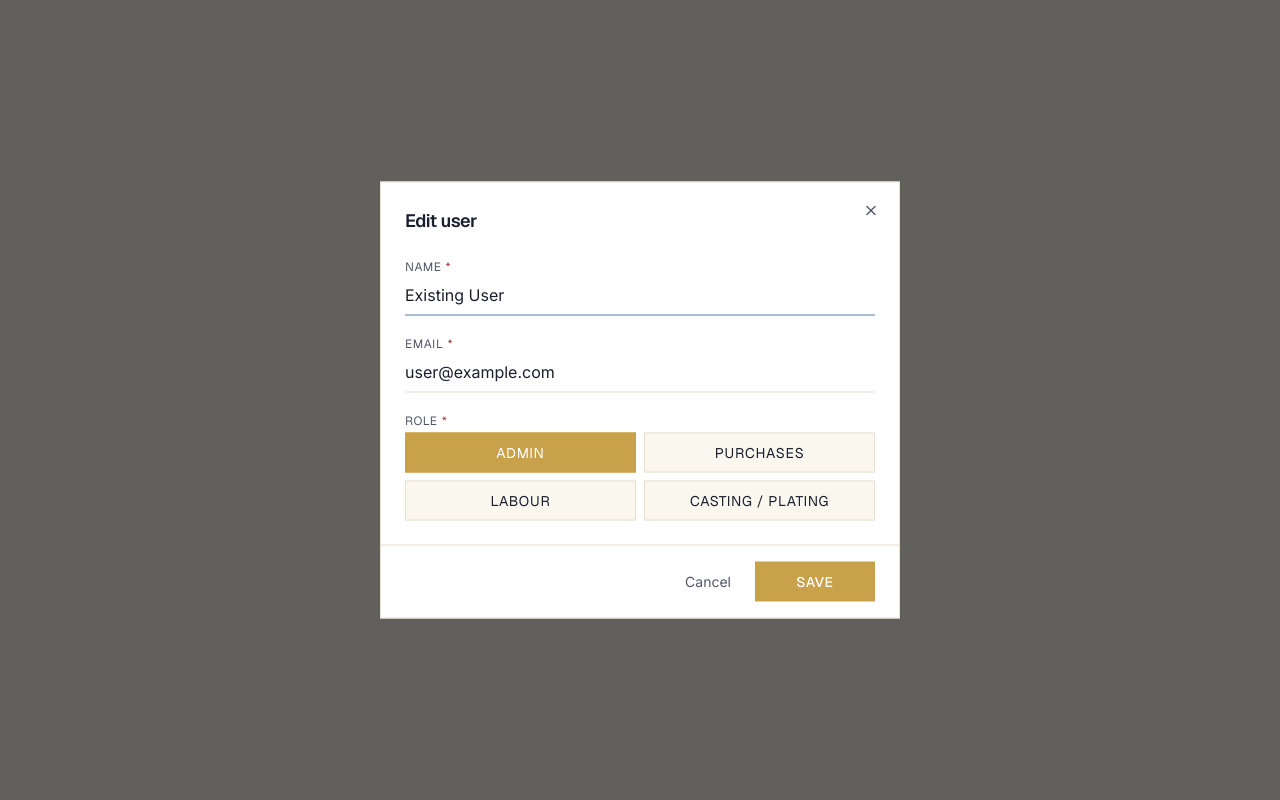
UserFormModal — edit mode › surfaces server-side G2/G3 rejection in the form's role field
Click the radio button with test id "role-option-PURCHASE_DEPT": (760, 452) [644,432,875,472]
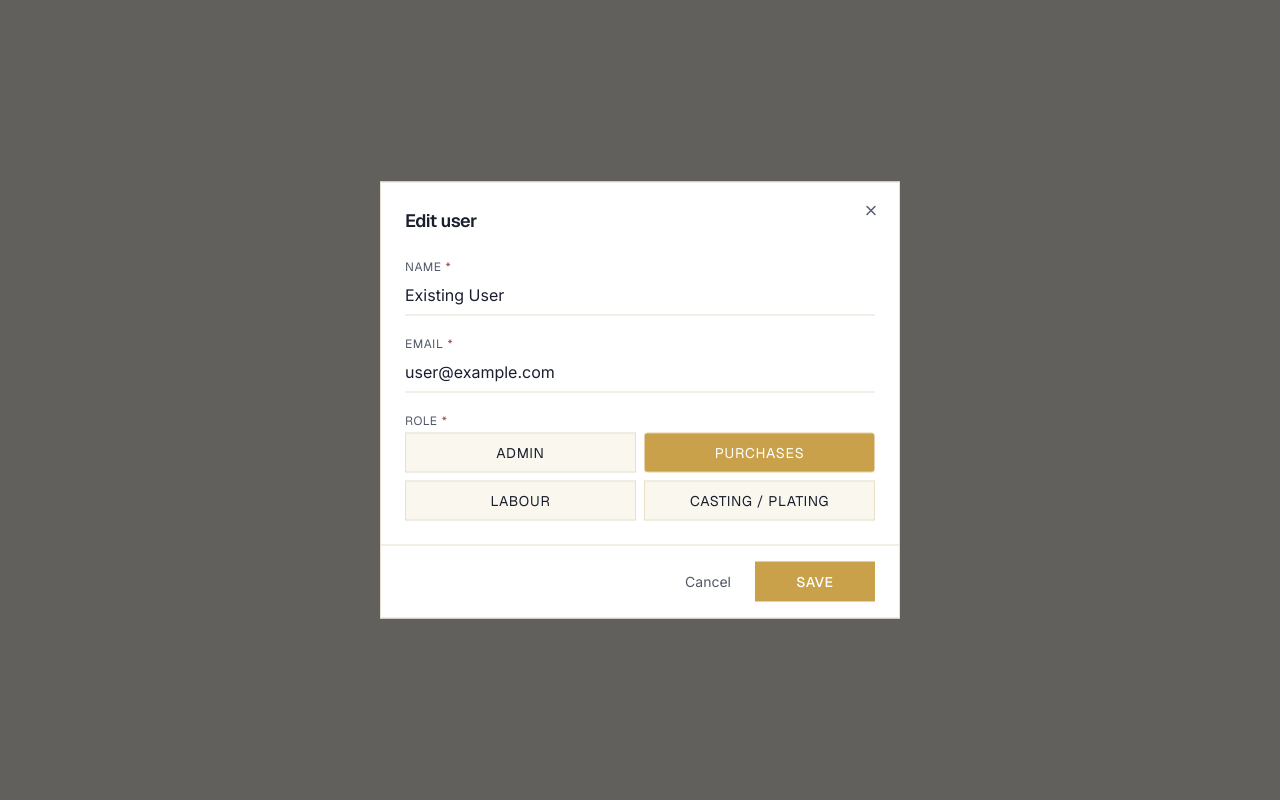
Click the button with test id "user-form-save": (815, 582) [755,562,875,602]
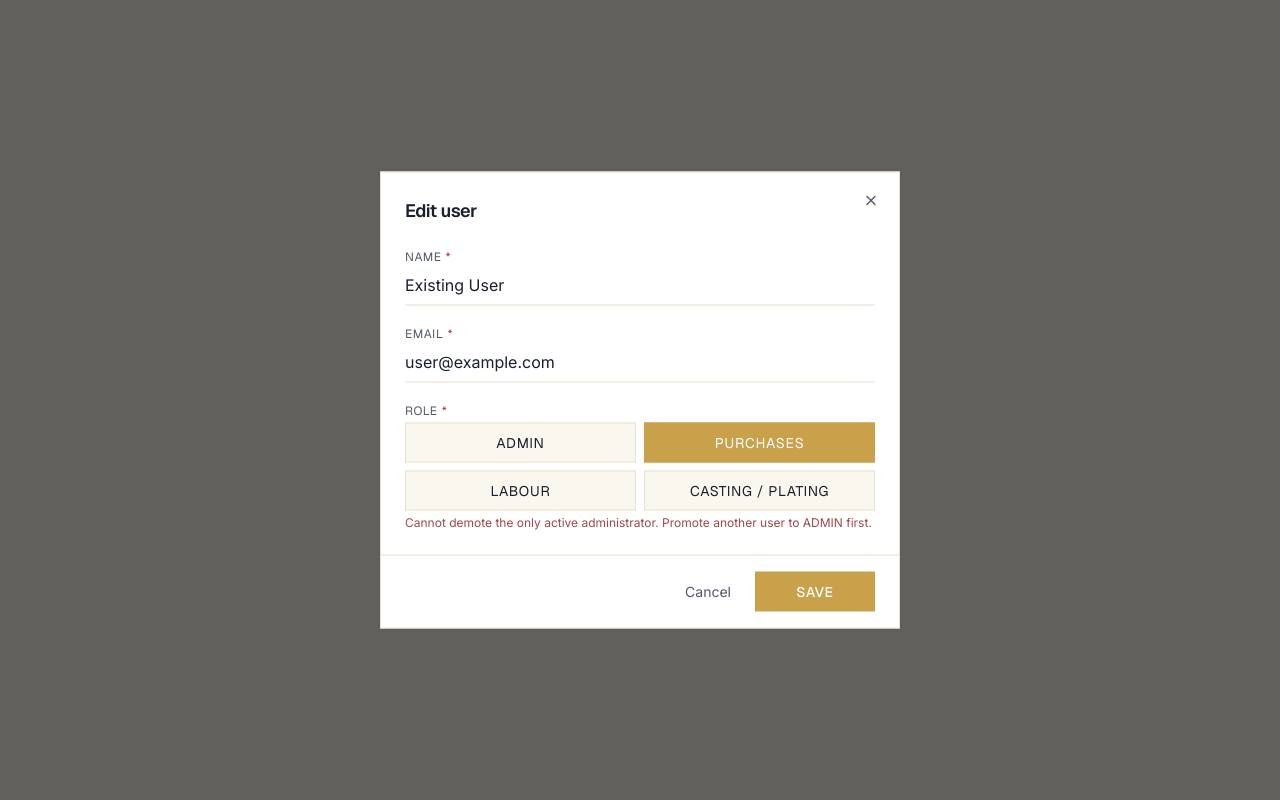
Now the text "only active administrator" is shown, box [405,514,872,530]
